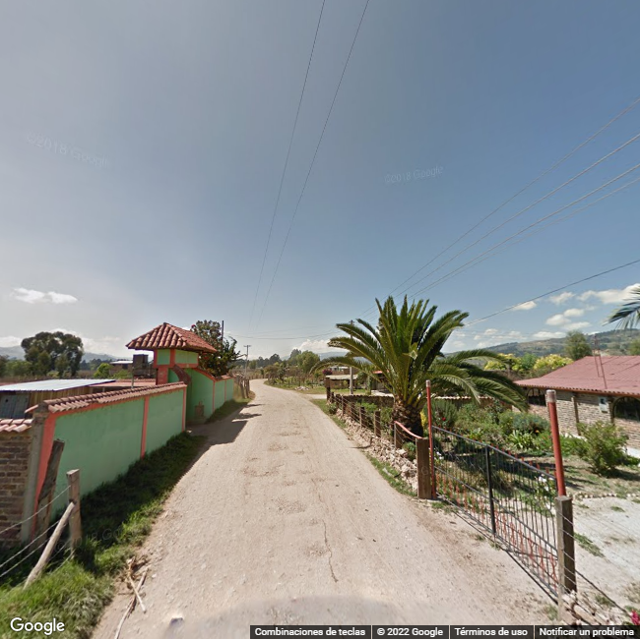D00: (321, 518, 338, 584)
